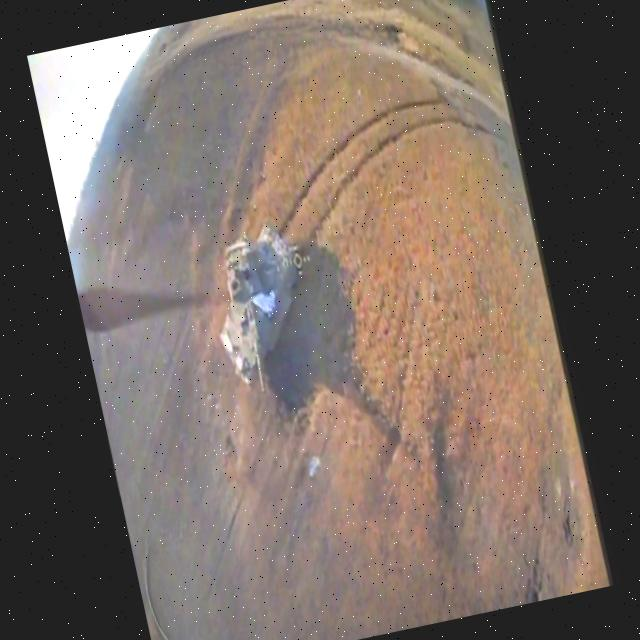MBT: (198, 219, 328, 404)
